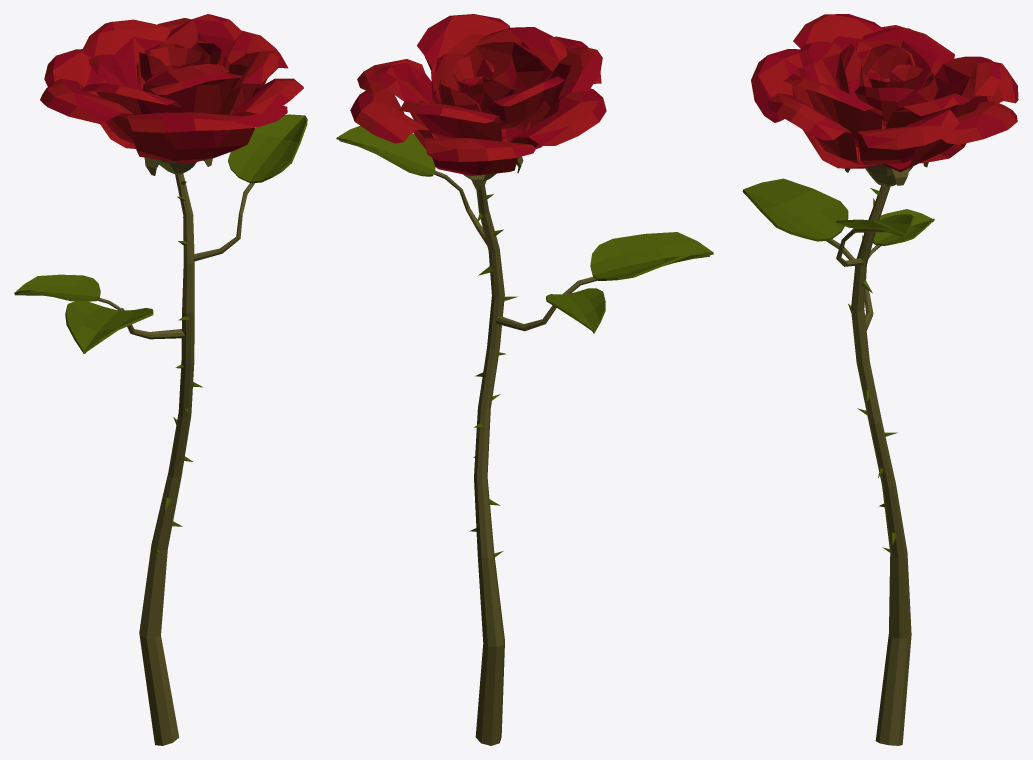
File: Rose.fbx
3 renders of one model, left to right at view 1: azimuth 30°, elevation 25°; view 2: azimuth 150°, elevation 25°; view 3: azimuth 270°, elevation 25°, orthographic. The views are drawn at different scales.
Parts seen in each view (by area): view 1: Plane.014; view 2: Plane.014; view 3: Plane.014.
Part boxes in pixels (x1=…): Plane.014: x1=14, y1=14, x2=307, y2=745; Plane.014: x1=336, y1=14, x2=713, y2=745; Plane.014: x1=742, y1=14, x2=1018, y2=745.
Bounding box in the file's own units: 571 × 1254 × 451.
